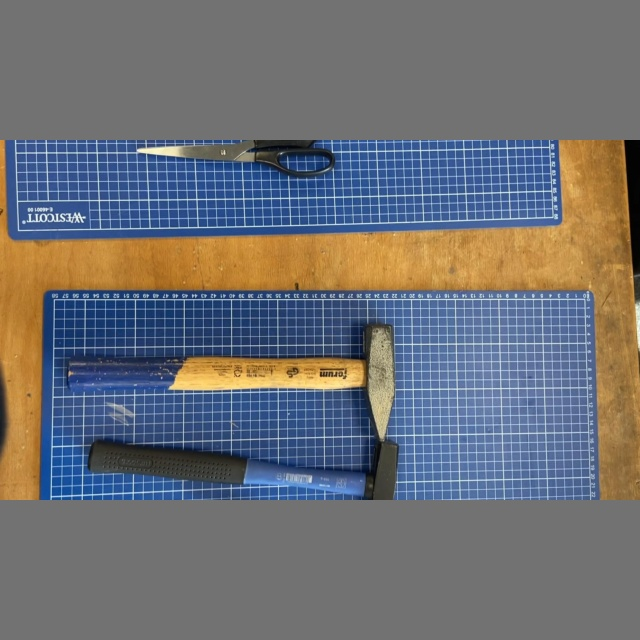scissor: (132, 140, 343, 181)
